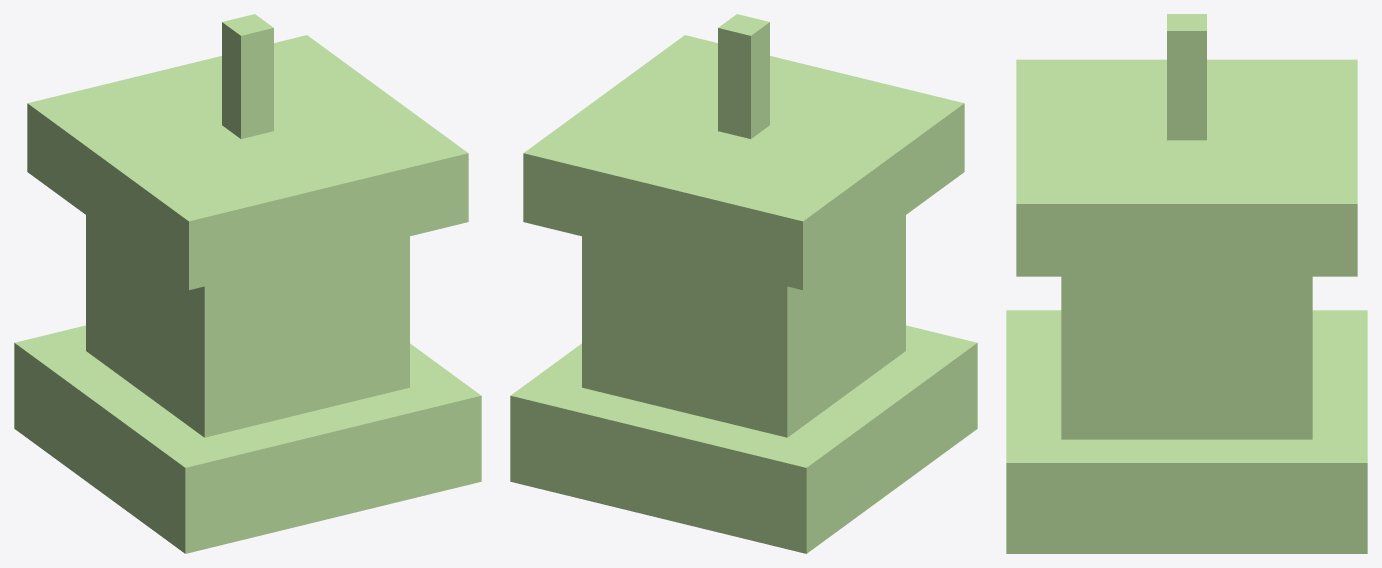
Rendered from outpost.gltf.
3 renders of one model, left to right at view 1: azimuth 30°, elevation 25°; view 2: azimuth 150°, elevation 25°; view 3: azimuth 270°, elevation 25°, orthographic. The views are drawn at different scales.
Visible parts, largest first — view 1: outpost; view 2: outpost; view 3: outpost.
Boxes of the visible parts, box(x1,y1,x2,y2) form: outpost: box(14, 14, 481, 553); outpost: box(510, 14, 977, 553); outpost: box(1006, 14, 1367, 553).
Size of the model in its own units: 1.8 by 2.5 by 1.8.
